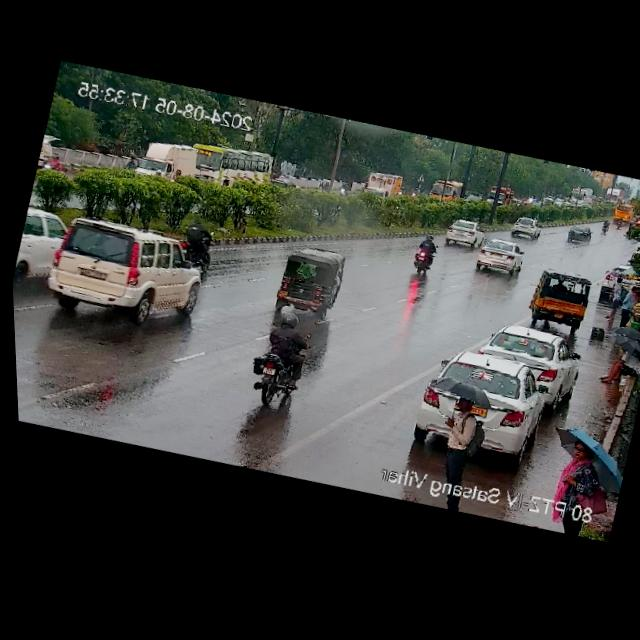bus: (186, 136, 277, 194), (426, 172, 467, 207), (565, 182, 595, 211)
car: (38, 196, 222, 342), (408, 342, 557, 475), (476, 314, 585, 404), (264, 238, 353, 325), (520, 258, 598, 340), (467, 230, 528, 284), (439, 215, 486, 253), (508, 212, 546, 244), (562, 222, 595, 249)
motorcycle: (238, 308, 326, 416), (175, 218, 226, 271), (405, 234, 441, 278), (336, 179, 348, 196), (598, 219, 610, 234), (319, 179, 330, 194), (615, 217, 623, 230)
person: (538, 421, 632, 516), (420, 375, 495, 487), (597, 327, 640, 395), (599, 271, 628, 329), (613, 278, 640, 330)
